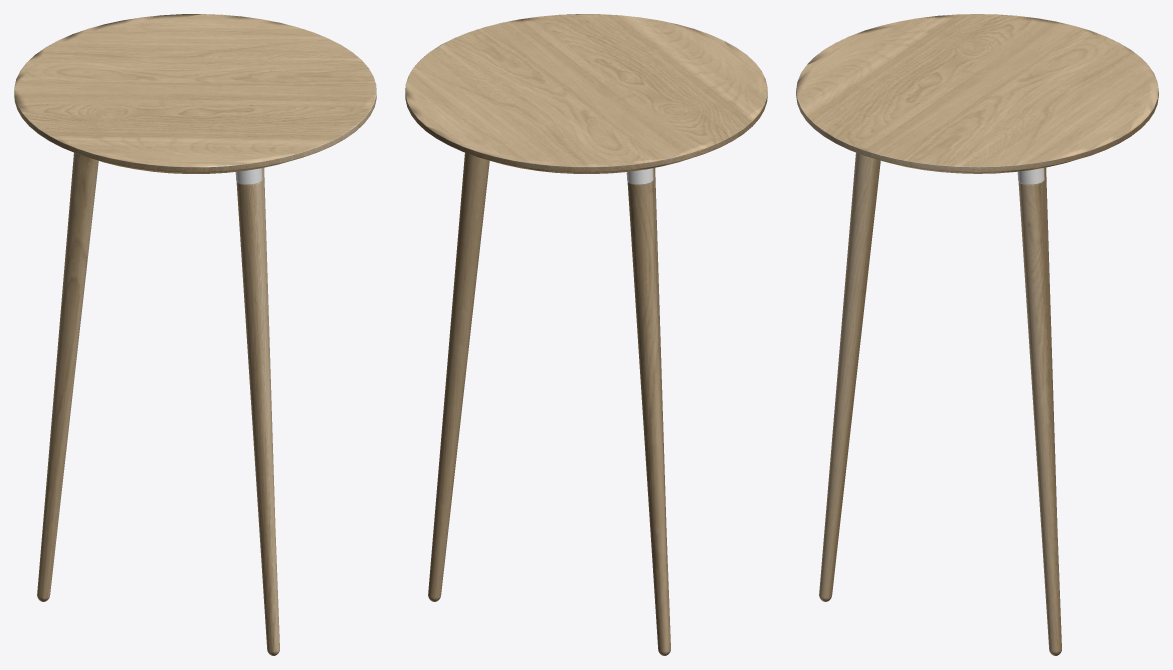
The model's file is edelweiss_bar_table_ash_and_white.glb.
3 views of the same model, side by side, from view 1: azimuth 30°, elevation 25°; view 2: azimuth 150°, elevation 25°; view 3: azimuth 270°, elevation 25° (orthographic).
Visible parts, largest first — view 1: WALNUT_EDGE; view 2: WALNUT_EDGE; view 3: WALNUT_EDGE.
Boxes of the visible parts, x1,y1,x2,y2 form: WALNUT_EDGE: (14, 14, 376, 655); WALNUT_EDGE: (405, 14, 767, 655); WALNUT_EDGE: (796, 14, 1158, 655).
Size of what is drawn, in the model's own units: 61.07 by 94.72 by 61.07.
3 materials, 2 textured.
